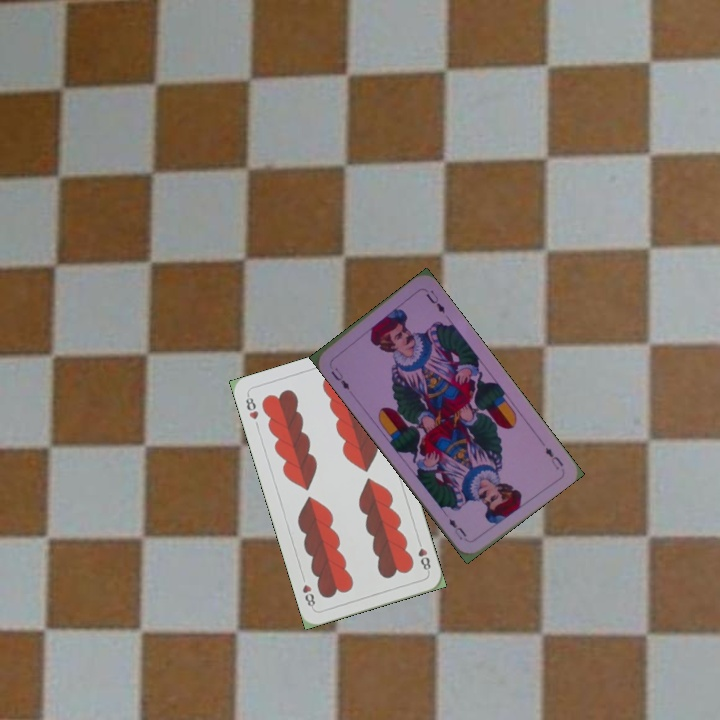EU: (327, 363, 352, 393), (541, 443, 566, 472)
H8: (413, 536, 433, 575), (242, 390, 261, 422)
